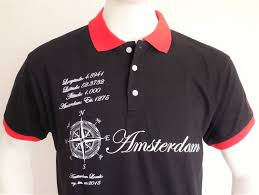S_polo shirt: (10, 26, 259, 194)
